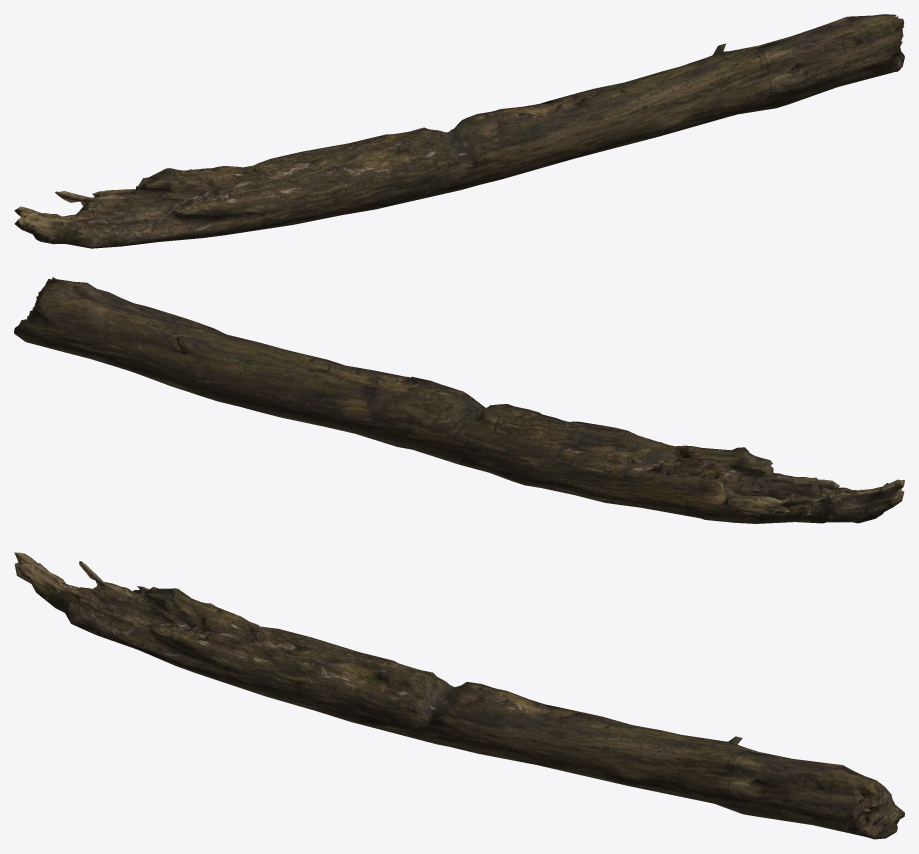
Rendered from log.glb.
3 renders of one model, top to bottom at view 1: azimuth 30°, elevation 25°; view 2: azimuth 150°, elevation 25°; view 3: azimuth 330°, elevation 25°, orthographic.
Size of the model in its own units: 3.05 by 0.2863 by 0.2774.
1 material, 1 textured.
